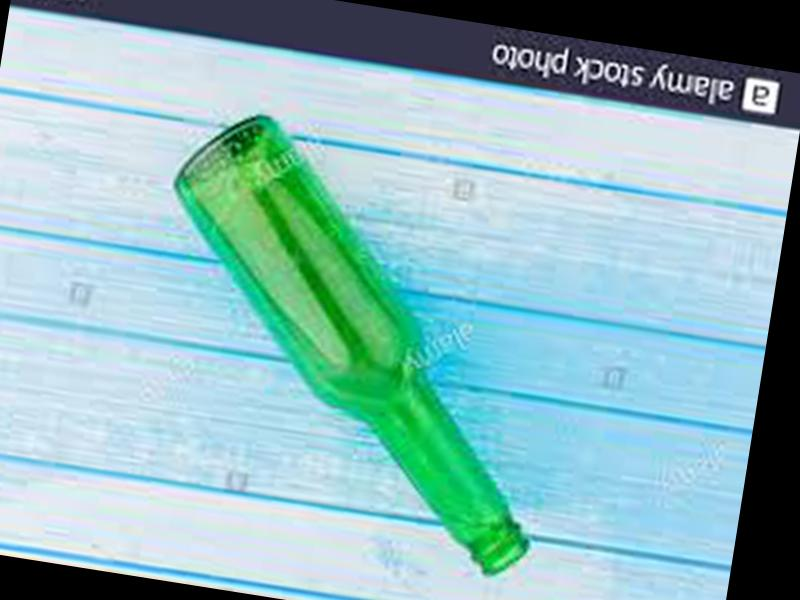Beer: (117, 96, 593, 583)
